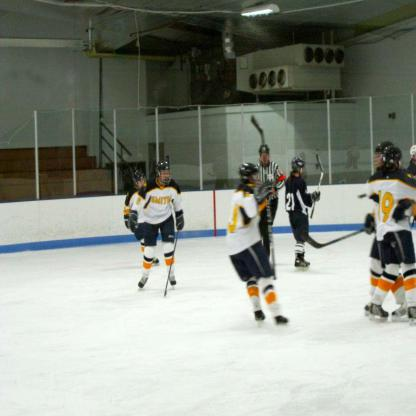face: (375, 152, 385, 168), (161, 169, 170, 184), (262, 153, 269, 165), (139, 177, 145, 188)
